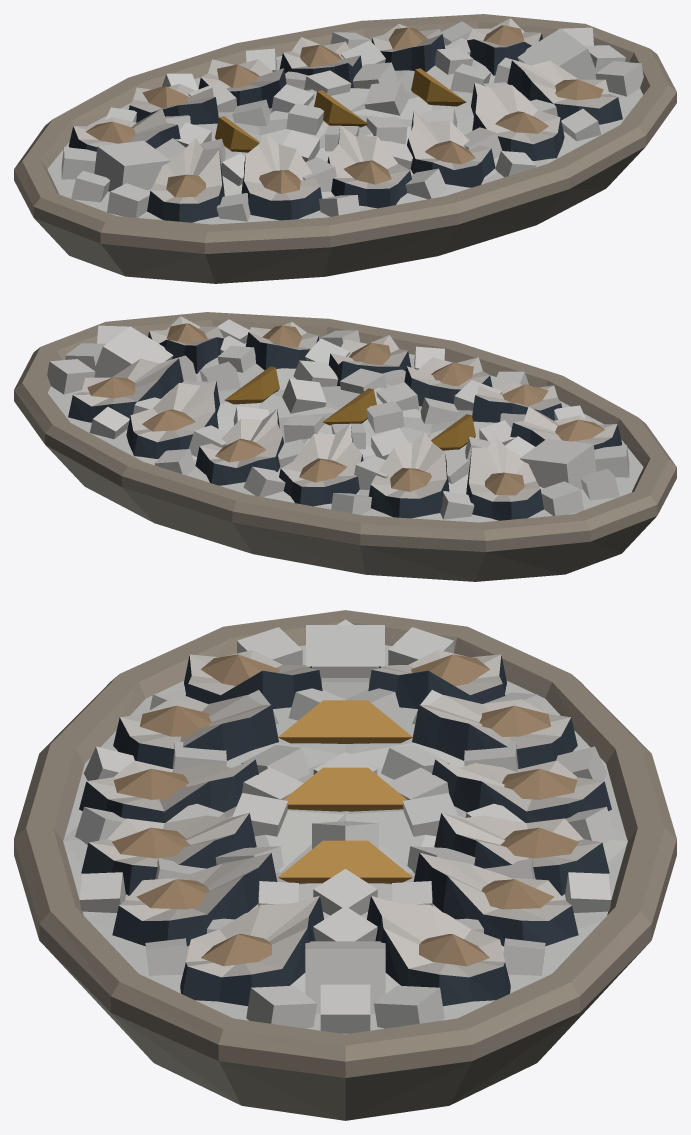
The model's file is food_podnos2.glb.
3 views of the same model, one above another, from view 1: azimuth 30°, elevation 25°; view 2: azimuth 150°, elevation 25°; view 3: azimuth 270°, elevation 25° (orthographic). The views are drawn at different scales.
Visible parts, largest first — view 1: mesh_0; view 2: mesh_0; view 3: mesh_0.
Part boxes in pixels (left/top/right/bottom): mesh_0: left=14, top=14, right=676, bottom=283; mesh_0: left=14, top=312, right=676, bottom=581; mesh_0: left=14, top=610, right=676, bottom=1120.
Bounding box in the file's own units: 0.7 × 0.1062 × 0.44.
